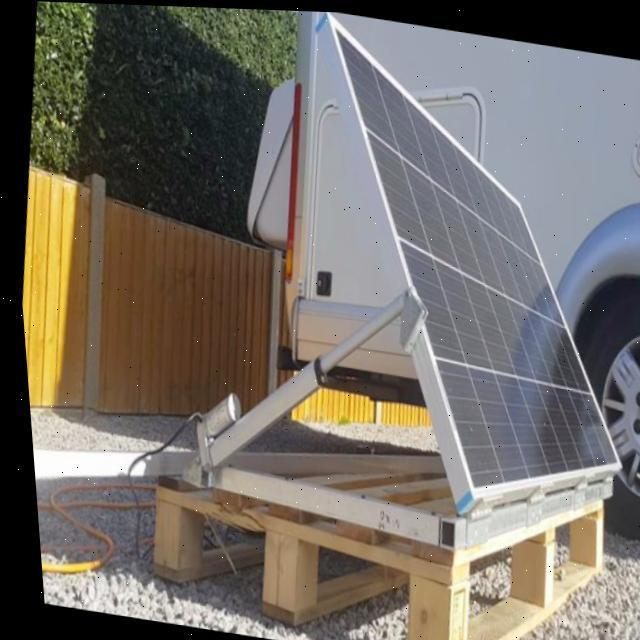Normal Solar Panel: (274, 11, 640, 515)
